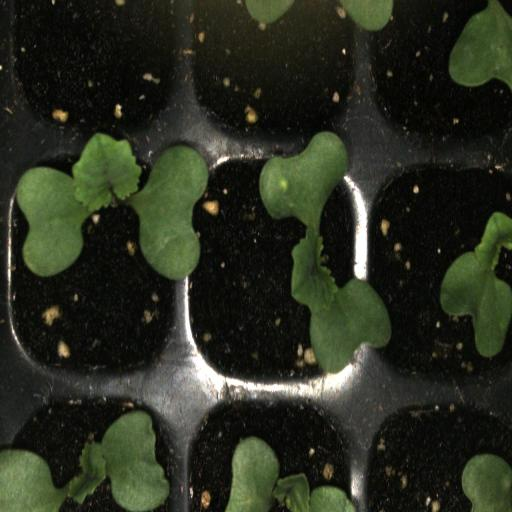noseedling: (7, 0, 188, 134)
seedling: (3, 134, 186, 389), (184, 133, 363, 390), (363, 150, 512, 386), (3, 386, 185, 512), (186, 386, 365, 512)
